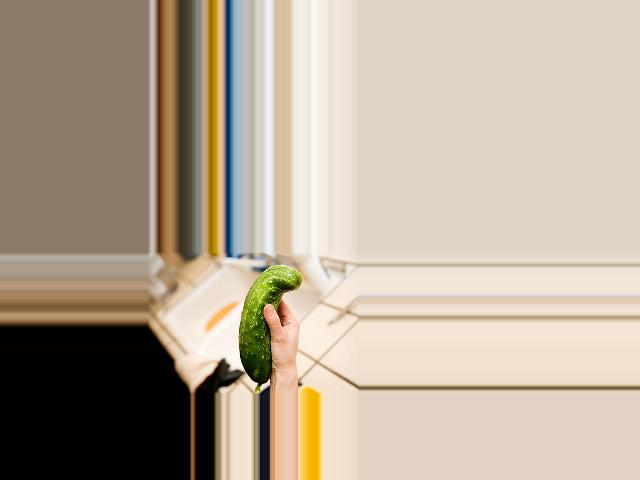cucumber: (237, 264, 301, 392)
